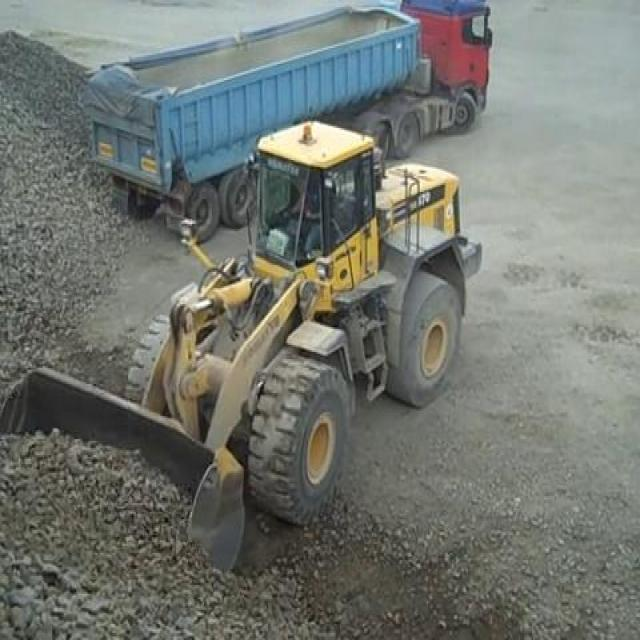Dump Truck: (89, 0, 492, 226)
Loader: (3, 121, 480, 576)
